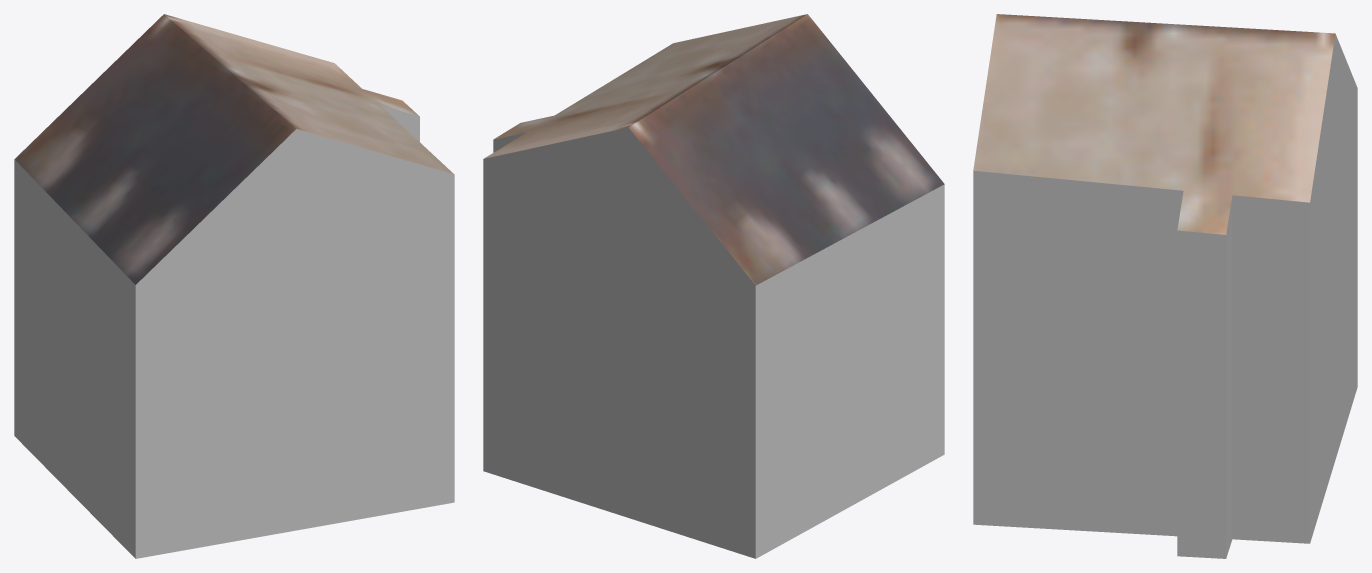
Rendered from DEBW_0010007Tx5g.gltf.
The picture shows the model from 3 angles, left to right: view 1: azimuth 30°, elevation 25°; view 2: azimuth 150°, elevation 25°; view 3: azimuth 270°, elevation 25°; orthographic projection. The views are drawn at different scales.
Visible parts, largest first — view 1: Z_UP; view 2: Z_UP; view 3: Z_UP.
Part boxes in pixels (bbox=[...]): Z_UP: bbox=[14, 14, 454, 558]; Z_UP: bbox=[483, 14, 944, 558]; Z_UP: bbox=[973, 14, 1357, 558].
Size of the model in its own units: 11.45 by 12.13 by 9.76.
2 materials, 1 textured.
